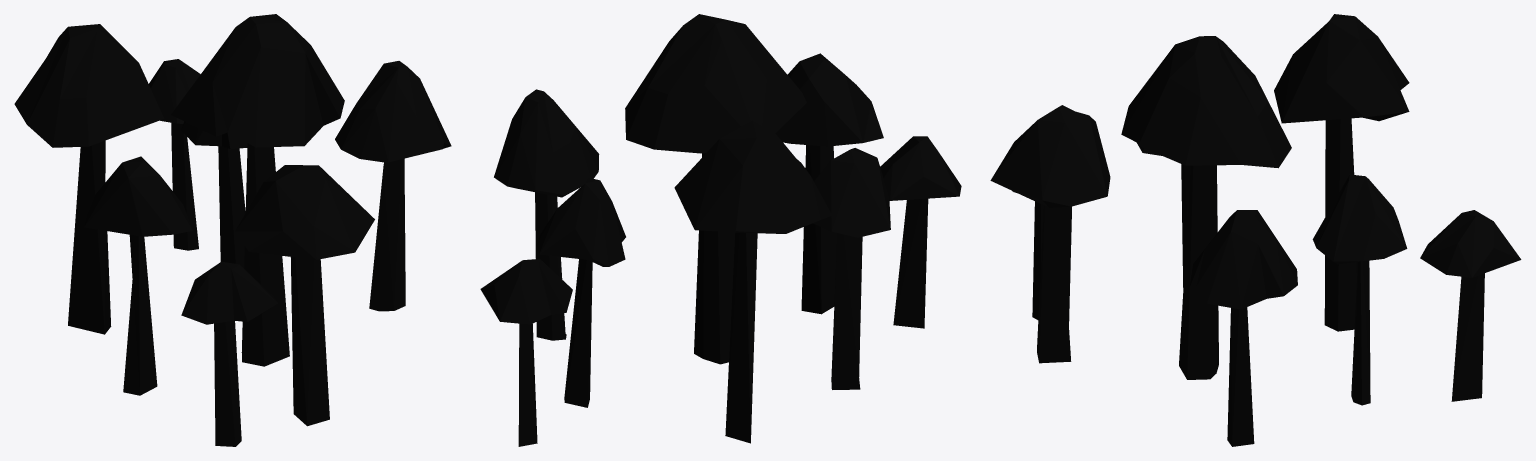
File: synty-plant-mushrooms-02.gltf
The picture shows the model from 3 angles, left to right: view 1: azimuth 30°, elevation 25°; view 2: azimuth 150°, elevation 25°; view 3: azimuth 270°, elevation 25°; orthographic projection.
Visible parts, largest first — view 1: SM_Plant_Mushrooms_02; view 2: SM_Plant_Mushrooms_02; view 3: SM_Plant_Mushrooms_02.
Part boxes in pixels (left/top/right/bottom): SM_Plant_Mushrooms_02: left=14, top=14, right=451, bottom=446; SM_Plant_Mushrooms_02: left=480, top=14, right=961, bottom=446; SM_Plant_Mushrooms_02: left=990, top=14, right=1521, bottom=446.
Size of the model in its own units: 0.5518 by 0.4771 by 0.6902.
Materials: 1 (1 with a texture image).
